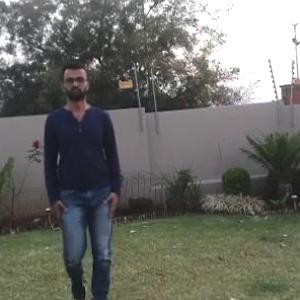follow: (50, 71, 120, 291)
